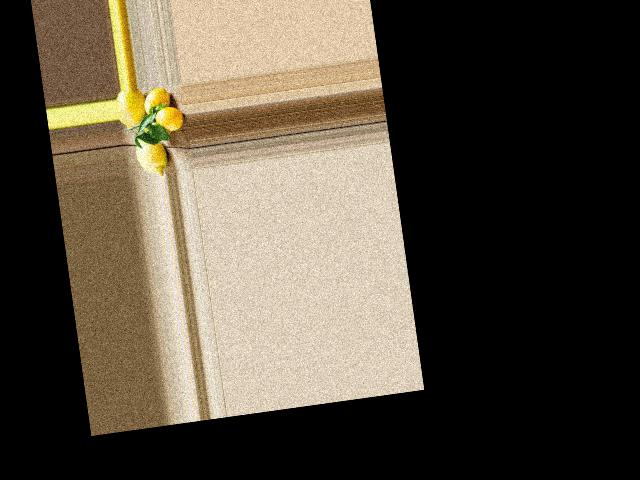lemon: (132, 127, 173, 178)
